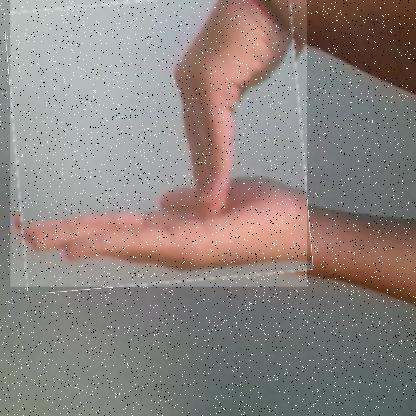Z: (9, 0, 307, 288)
